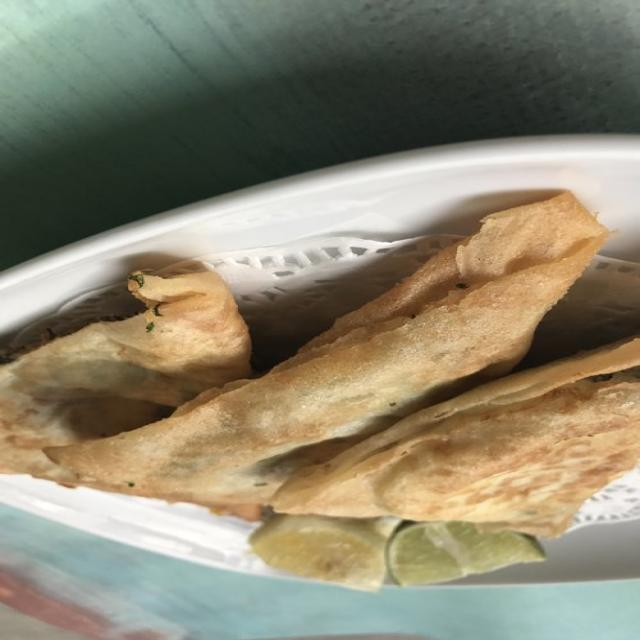Brik: (3, 193, 639, 536)
